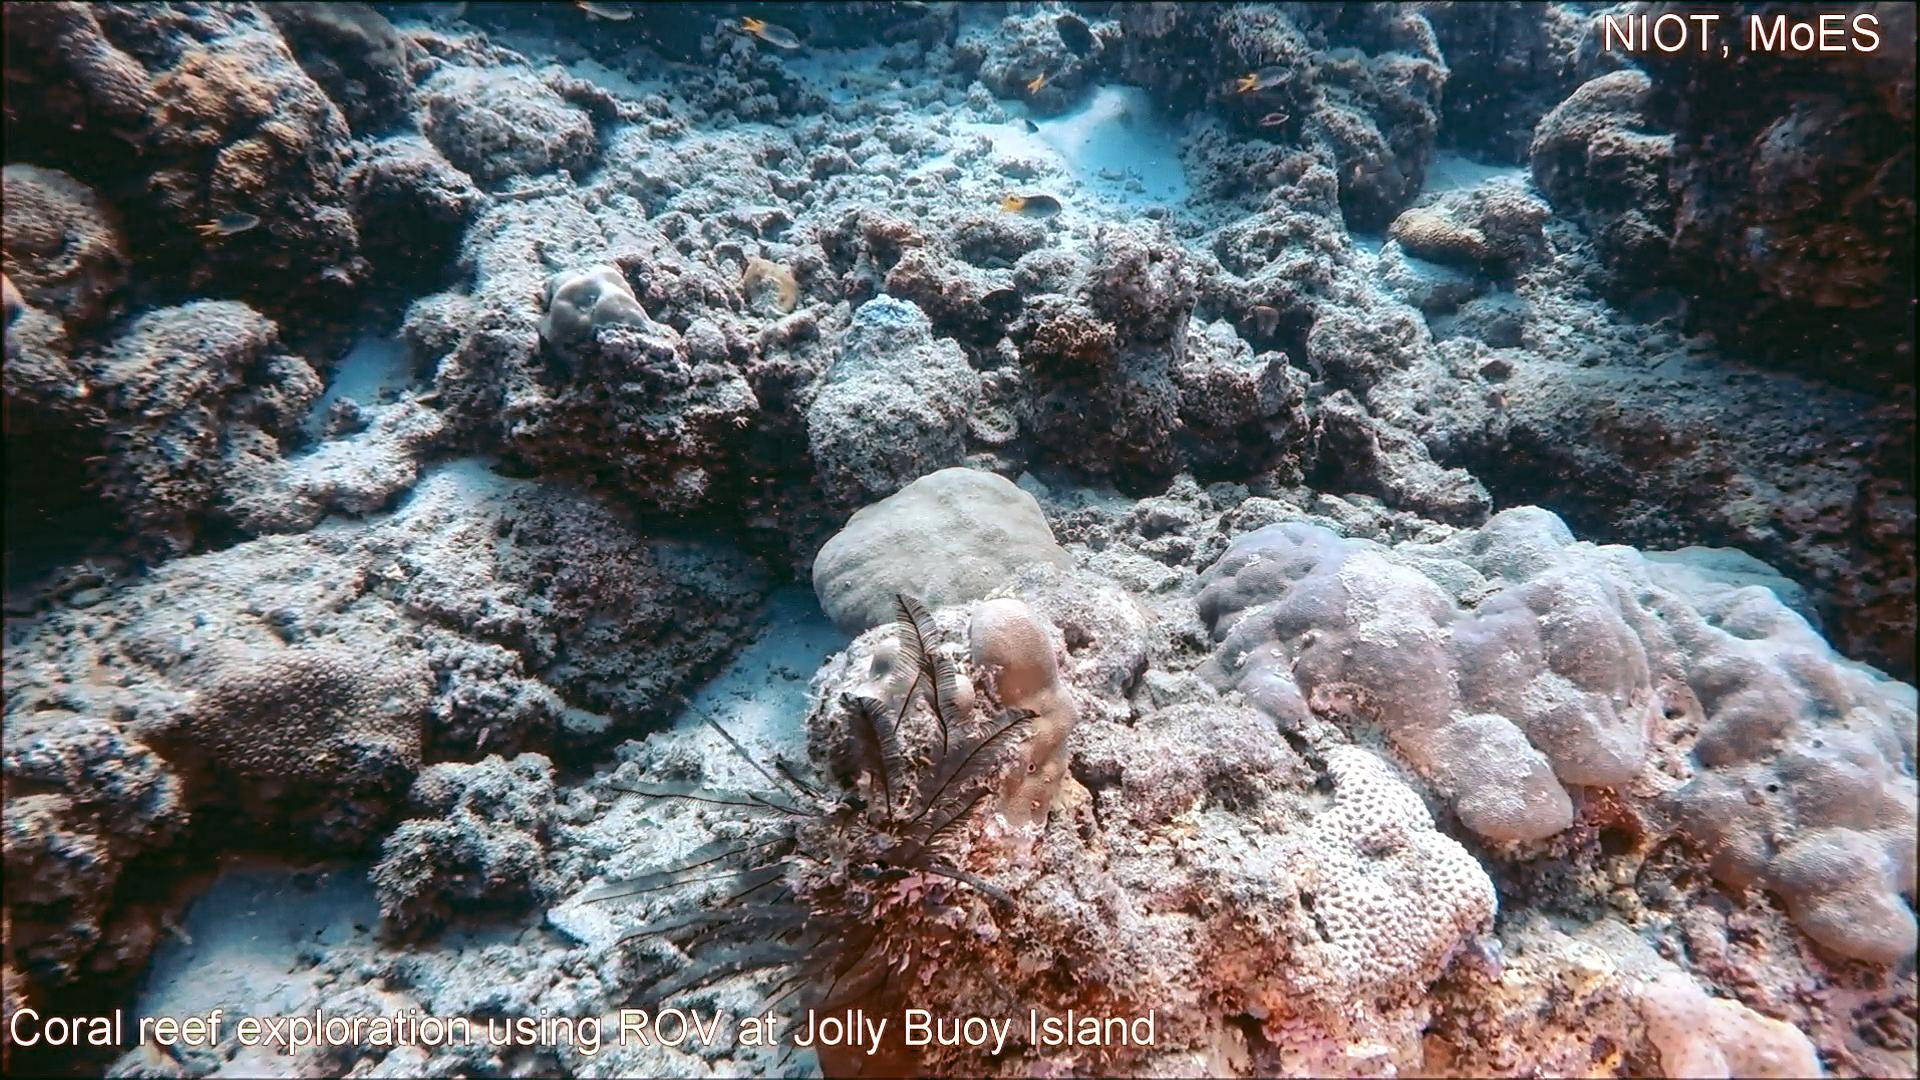Feather star-Crinoid star: (566, 583, 1048, 1080)
Goniastrea-Goniastrea pectinata: (1286, 735, 1509, 1019)
Porites-Porites pukoensis: (1544, 498, 1920, 969)
Turbinaria-Turbinaria stellulata: (178, 641, 433, 802)
